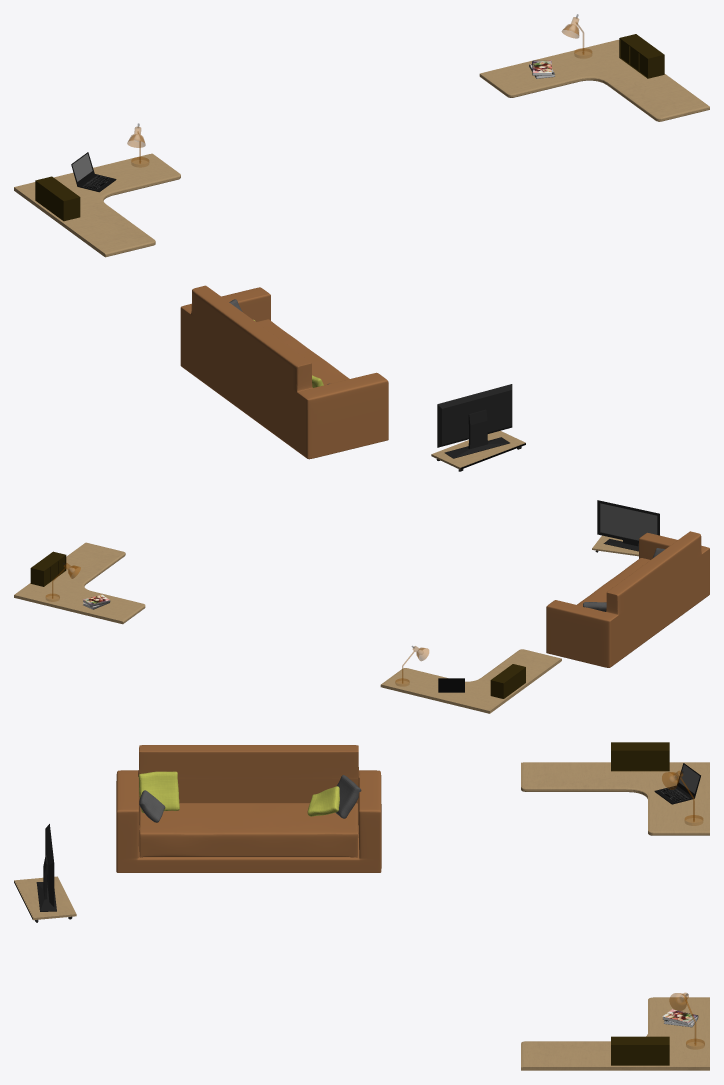
File: desk-objs.gltf
3 views of the same model, one above another, from view 1: azimuth 30°, elevation 25°; view 2: azimuth 150°, elevation 25°; view 3: azimuth 270°, elevation 25° (orthographic). The views are drawn at different scales.
Parts seen in each view (by area): view 1: sofa, Escritorios, Cortinas + TV todo.001, box escritorio, Velador; view 2: sofa, Escritorios, box escritorio, teclado notbook, Cortinas + TV todo.001, Velador, notbook -- falta; view 3: sofa, Escritorios, box escritorio, Almohadones Sofa, Cortinas + TV todo.001, Velador, teclado notbook.
Part boxes in pixels (<box>): sofa: <box>180,285,388,459</box>; Escritorios: <box>14,39,709,257</box>; Cortinas + TV todo.001: <box>431,384,525,471</box>; box escritorio: <box>35,34,664,221</box>; Velador: <box>127,14,591,167</box>; sofa: <box>546,531,709,667</box>; Escritorios: <box>14,542,561,713</box>; box escritorio: <box>30,551,525,698</box>; teclado notbook: <box>600,503,657,540</box>; Cortinas + TV todo.001: <box>592,500,659,556</box>; Velador: <box>46,562,428,686</box>; notbook -- falta: <box>438,678,464,692</box>; sofa: <box>116,745,381,872</box>; Escritorios: <box>521,762,709,1070</box>; box escritorio: <box>611,742,669,1065</box>; Almohadones Sofa: <box>138,771,361,822</box>; Cortinas + TV todo.001: <box>14,824,76,922</box>; Velador: <box>662,771,704,1049</box>; teclado notbook: <box>659,764,699,802</box>.
Size of the model in its own units: 65.96 by 11.81 by 63.68.
Materials: 9 (9 with a texture image).
